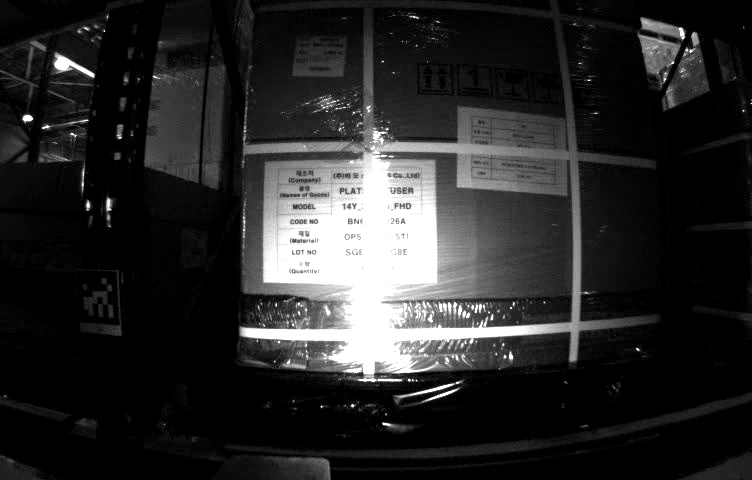True Barcode: (294, 32, 347, 78), (44, 229, 74, 274)
